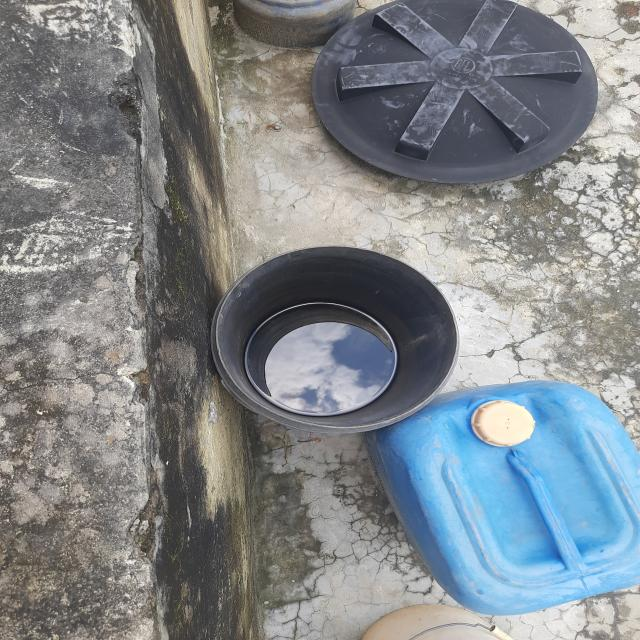Breeding Place: (368, 382, 640, 630), (200, 228, 467, 448), (303, 0, 609, 188)
